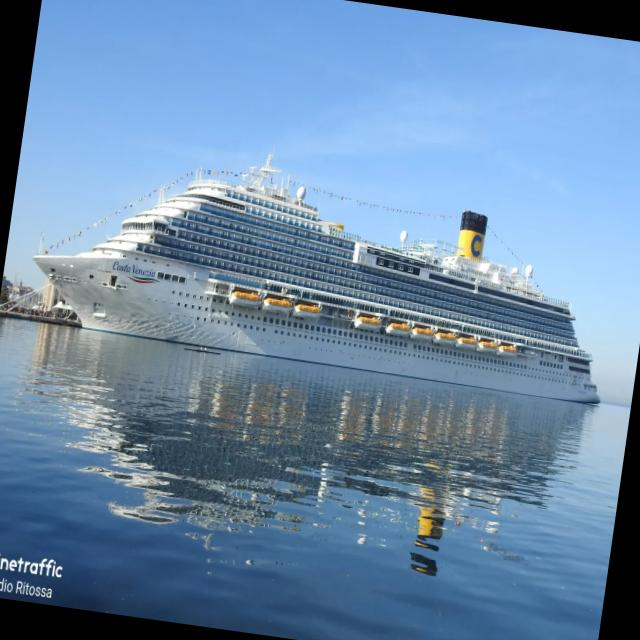Cruise: (33, 155, 600, 403)
